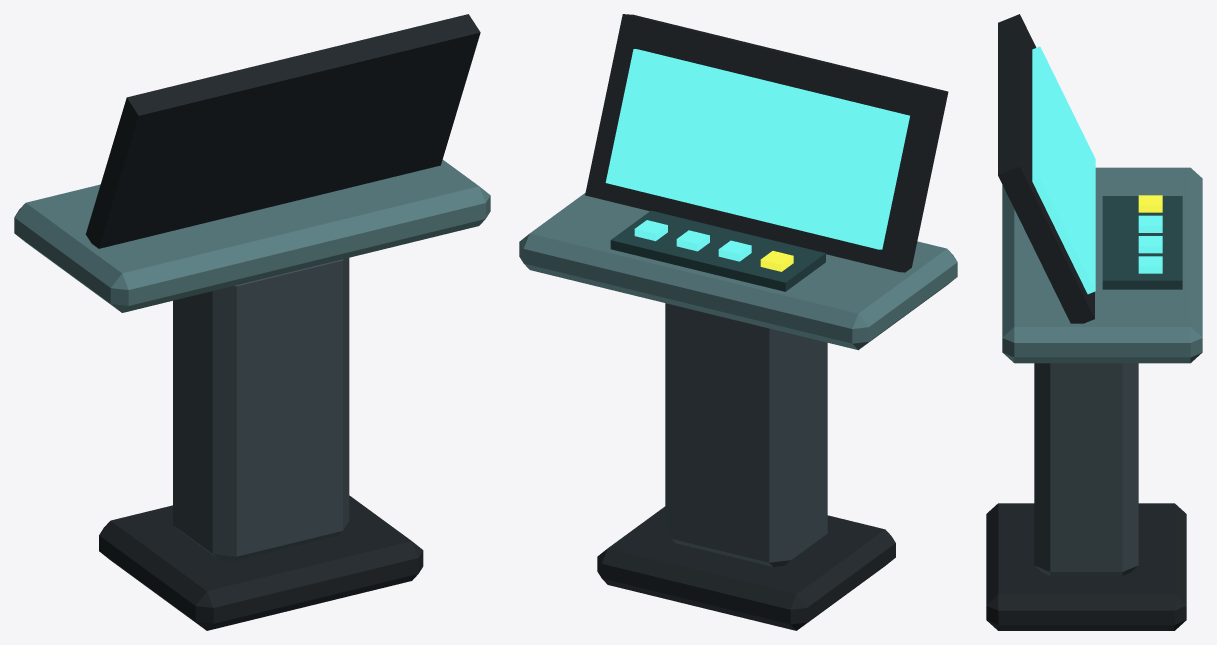
Rendered from Env_Console.fbx.
3 renders of one model, left to right at view 1: azimuth 30°, elevation 25°; view 2: azimuth 150°, elevation 25°; view 3: azimuth 270°, elevation 25°, orthographic. The views are drawn at different scales.
Visible parts, largest first — view 1: Env_Console; view 2: Env_Console; view 3: Env_Console.
Part boxes in pixels (x1=…): Env_Console: x1=14, y1=14, x2=490, y2=630; Env_Console: x1=519, y1=14, x2=957, y2=630; Env_Console: x1=986, y1=14, x2=1202, y2=630.
Size of the model in its own units: 1 by 0.54 by 1.36.
